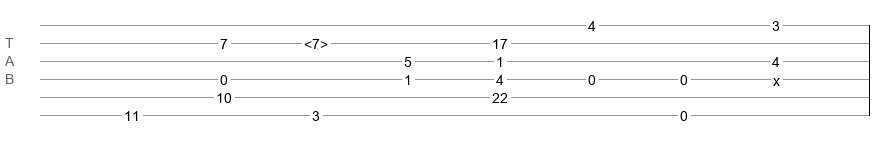0: (220, 72, 228, 82), (588, 72, 596, 82), (680, 108, 688, 118), (680, 72, 688, 82)
1: (404, 72, 412, 82), (496, 54, 504, 64)
10: (216, 90, 232, 100)
11: (124, 108, 140, 118)
17: (492, 36, 508, 46)
22: (492, 90, 508, 100)
3: (312, 108, 320, 118), (772, 18, 780, 28)
4: (496, 72, 504, 82), (588, 18, 596, 28), (772, 54, 780, 64)
5: (404, 54, 412, 64)
7: (220, 36, 228, 46)
harmonic: (304, 36, 328, 46)
x: (773, 73, 780, 81)
